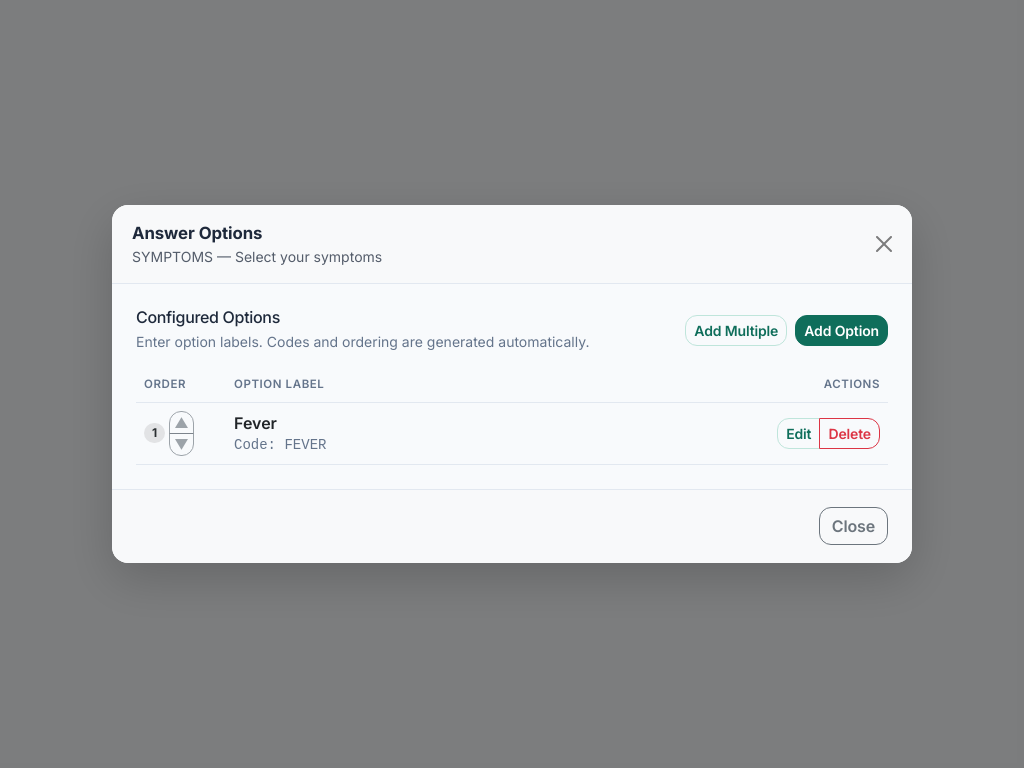
AnswerOptionsModal › shows friendly inline validation for duplicate labels
Expected: the text "Fever" is shown, [234, 413, 277, 433]
Click the button "Add Option" at (842, 330), box [795, 315, 888, 346]
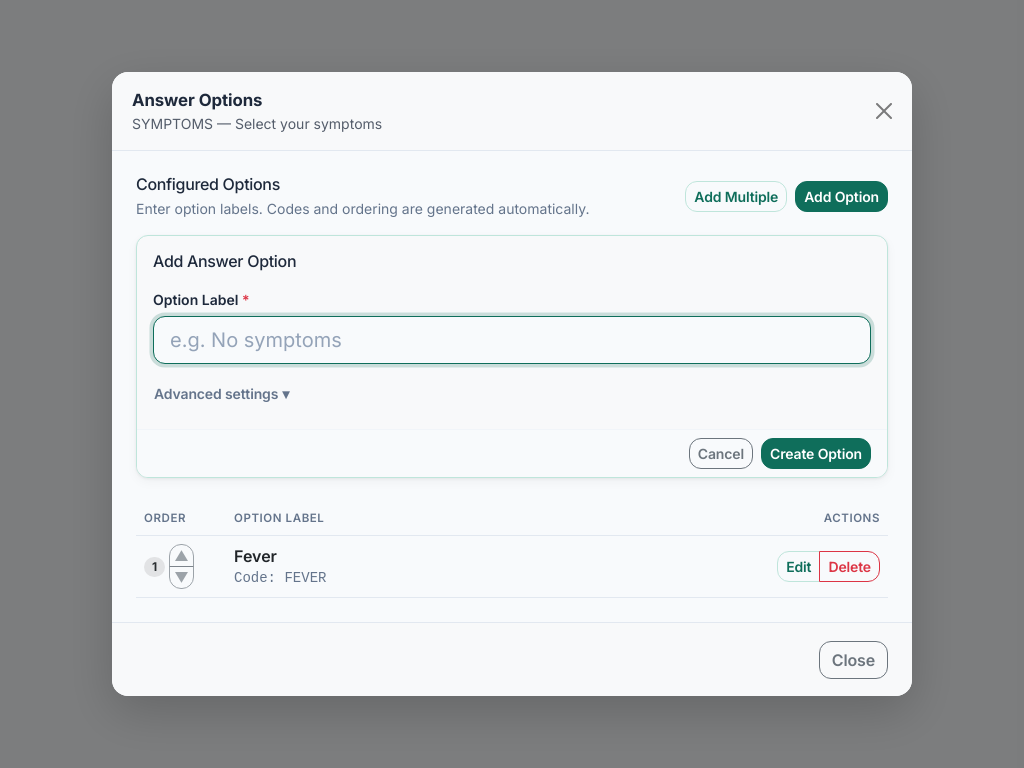
Type "  fever  " into the field labelled "Label" at (512, 340), box [153, 316, 871, 364]
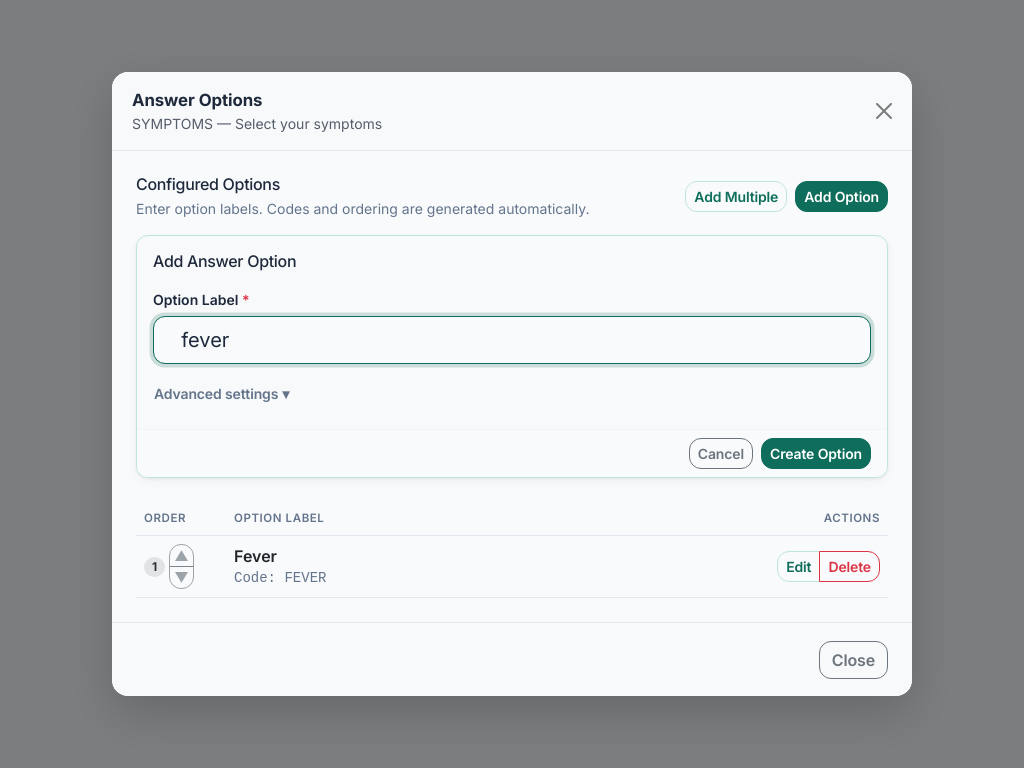
Click the button "Create Option" at (816, 453), box [761, 438, 871, 469]
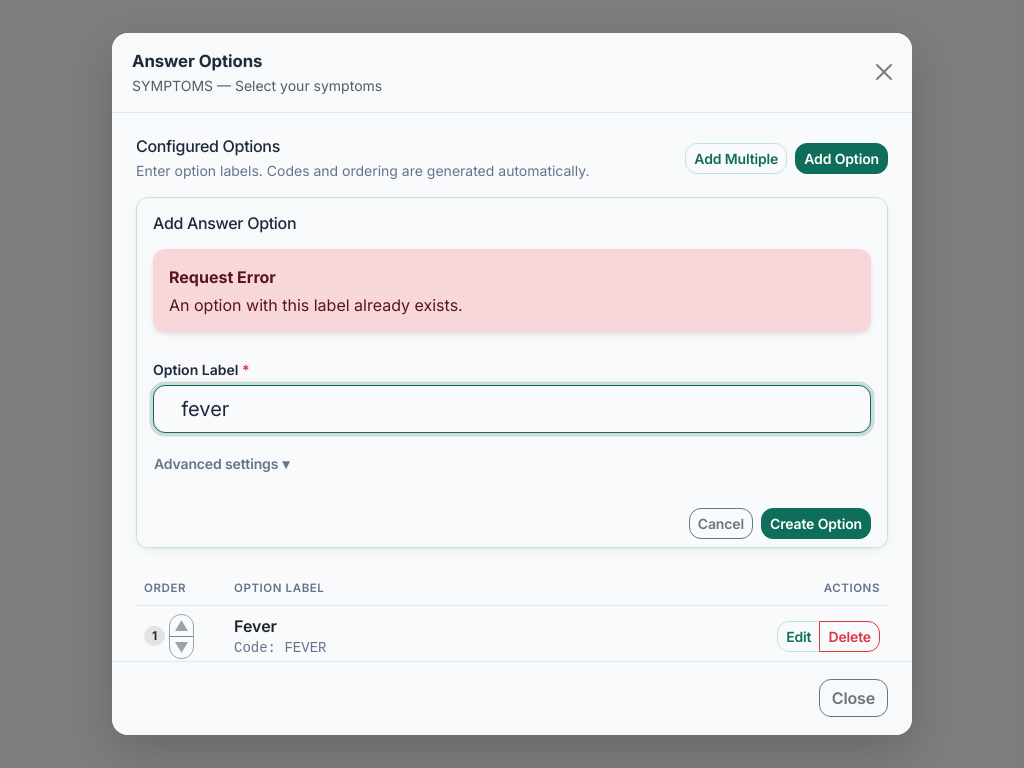
Result: the text "An option with this label already exists." is shown at [169, 293, 463, 317]
